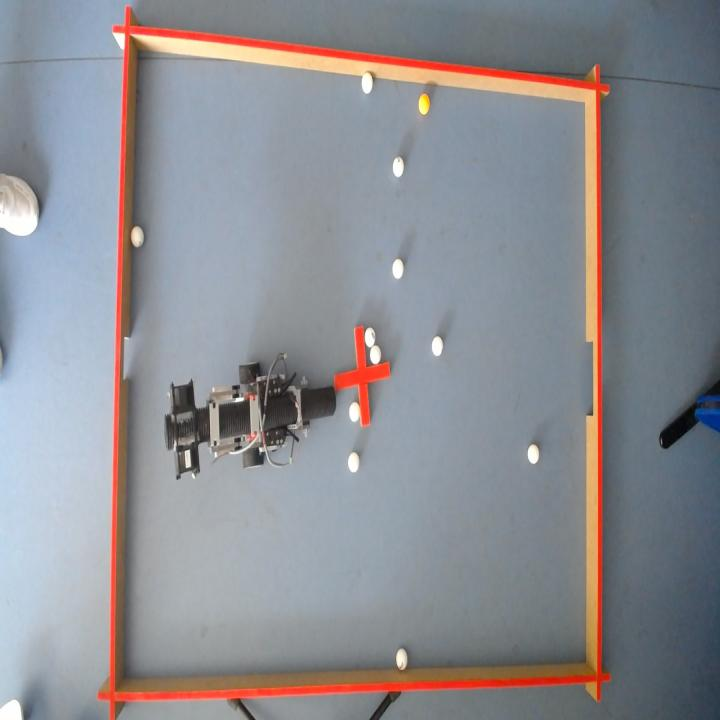orange: (419, 92, 430, 113)
robot: (164, 363, 336, 478)
white: (130, 225, 144, 246), (396, 649, 408, 671), (432, 335, 444, 356), (364, 326, 376, 347), (348, 451, 360, 472), (528, 443, 540, 464), (362, 70, 373, 92), (393, 155, 404, 176), (393, 257, 404, 278), (370, 343, 381, 364), (349, 401, 360, 422)
